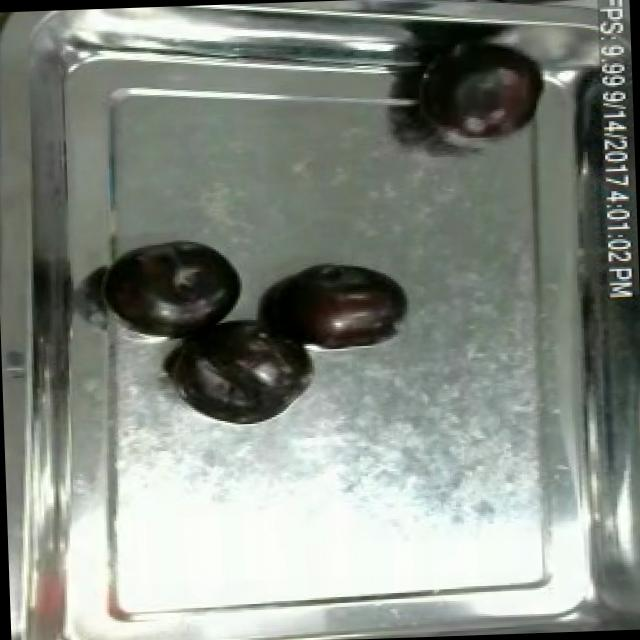Fruit: (103, 230, 251, 340), (166, 321, 314, 424), (260, 255, 416, 352), (425, 56, 552, 152)
